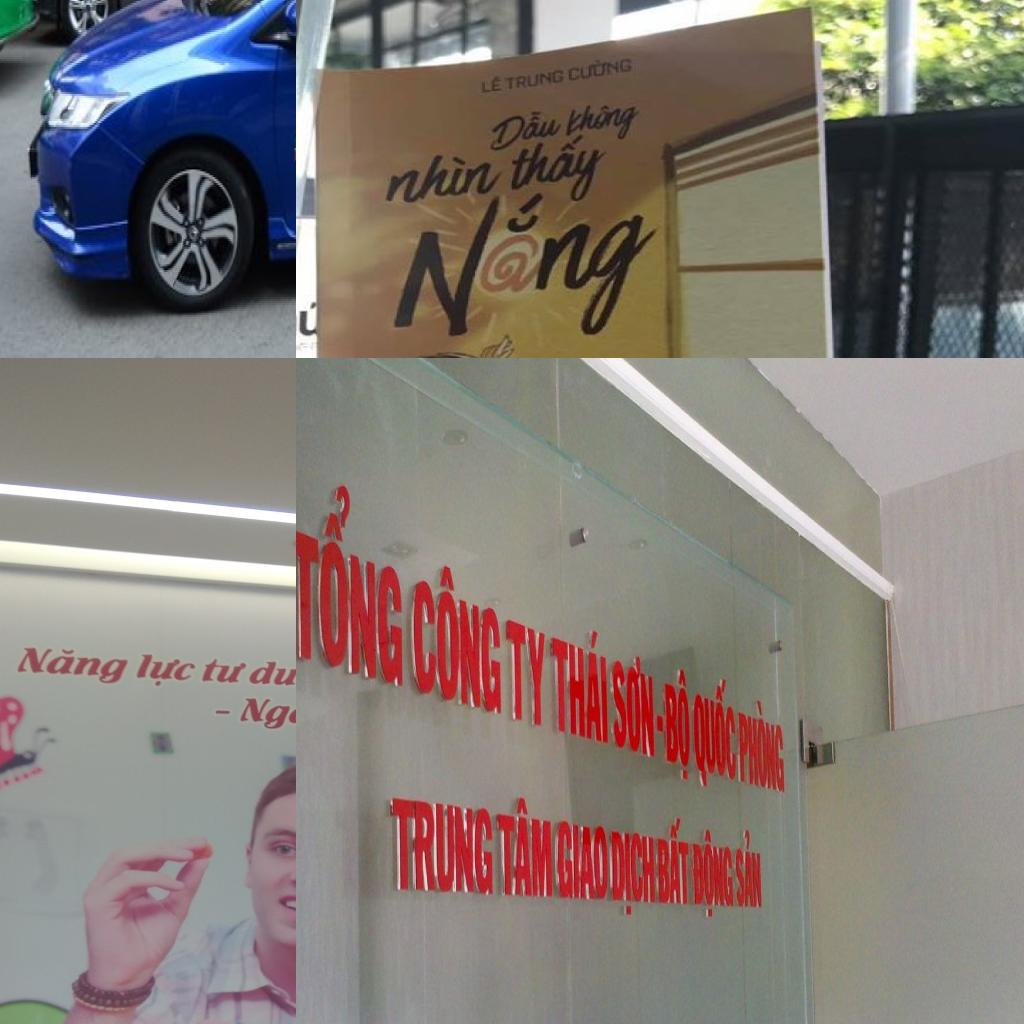text: (373, 182, 667, 348), (296, 470, 406, 693), (410, 553, 504, 721), (388, 796, 495, 896), (548, 614, 610, 752), (508, 134, 613, 210), (494, 794, 556, 903), (381, 153, 501, 208), (12, 641, 135, 687), (694, 668, 738, 795), (504, 612, 548, 730), (611, 651, 657, 762), (739, 695, 785, 797), (610, 830, 657, 923), (692, 826, 736, 925), (556, 821, 609, 903), (659, 661, 692, 786), (566, 94, 644, 144), (655, 811, 692, 916), (486, 102, 562, 152), (130, 649, 202, 690), (234, 695, 296, 731), (569, 52, 636, 84), (243, 656, 296, 695), (197, 655, 252, 685), (505, 67, 566, 93), (481, 73, 505, 95), (212, 708, 236, 716)
